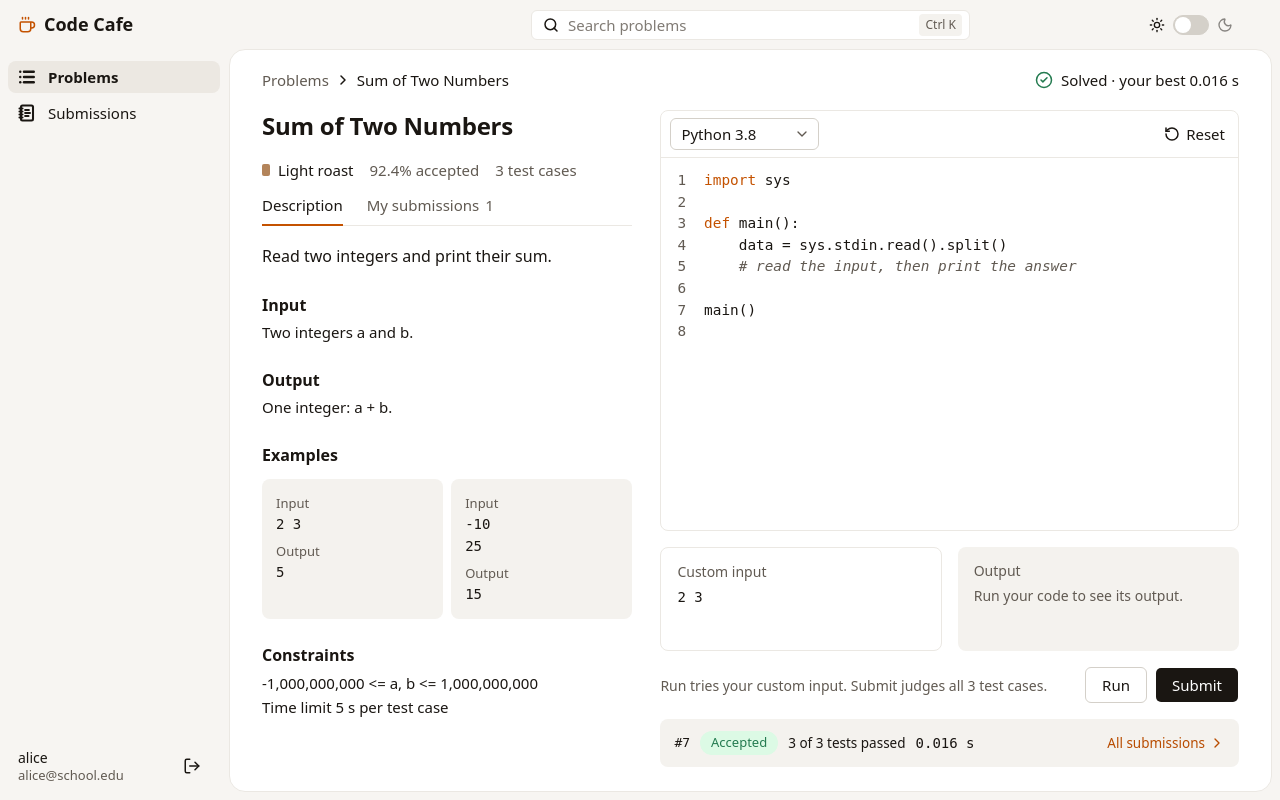
Scenario: workspace › runs custom input and shows the output with runtime and exit code
The image size is (1280, 800).
Click the button "Run". click: click(1116, 685)
box: [1085,667,1147,703]
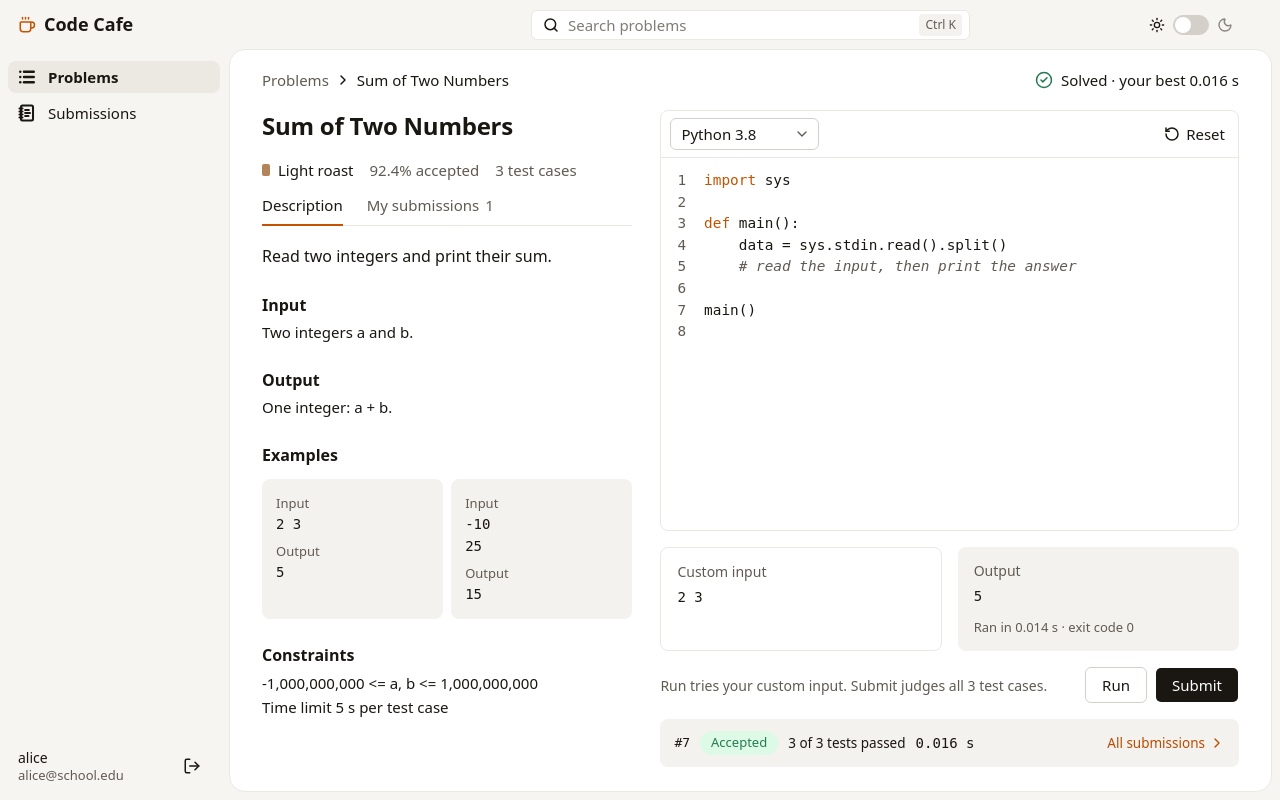
Result: the text "Ran in 0.014 s · exit code 0" is shown at [974,618,1134,636]
